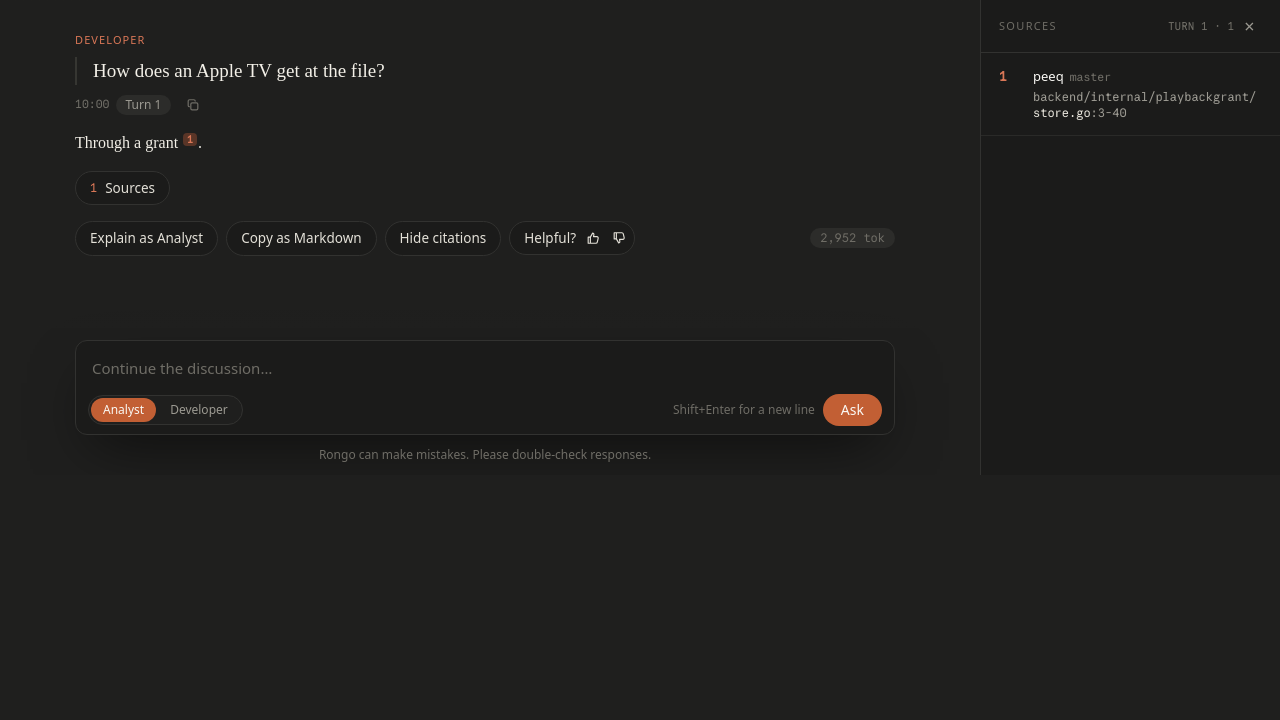
Test: Ask, what a turn cost › closes the pane when the thread underneath it changes
This screenshot has width=1280, height=720.
Click the button with aria-label "Token stats of turn 1" at (853, 238), box [810, 228, 895, 248]
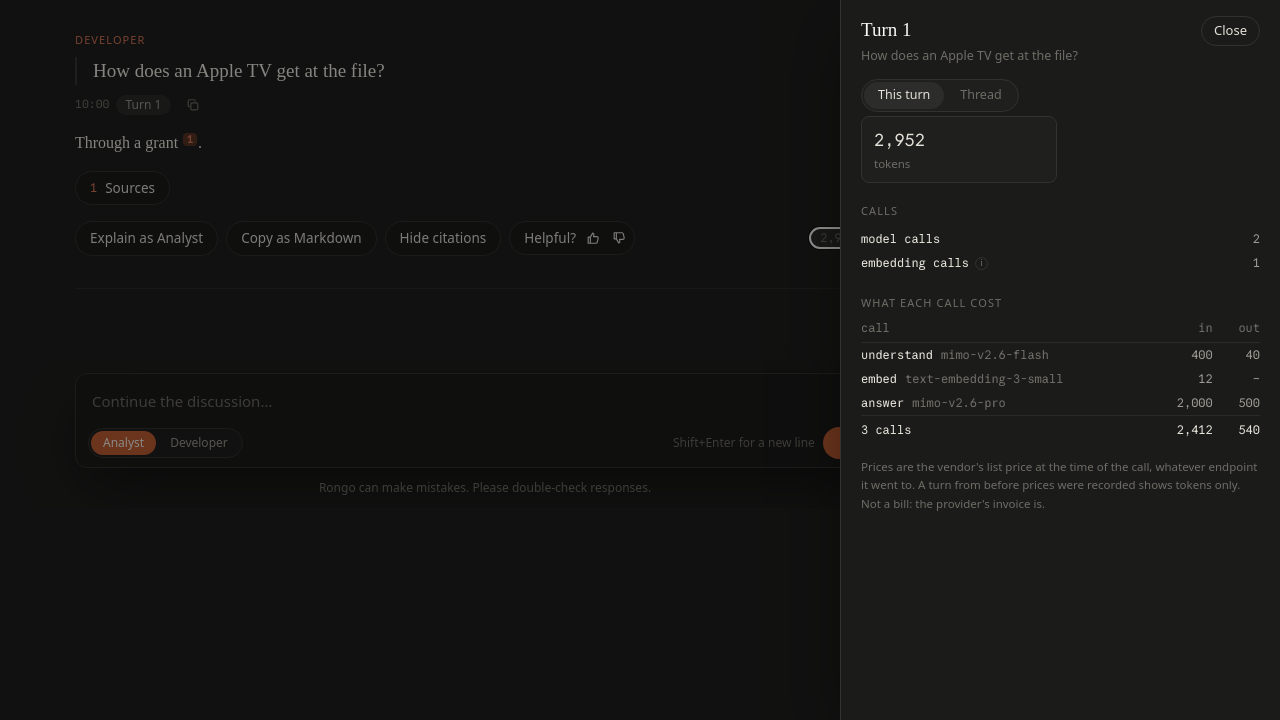
Result: the dialog named "Token stats" is shown at [840, 0, 1279, 719]
